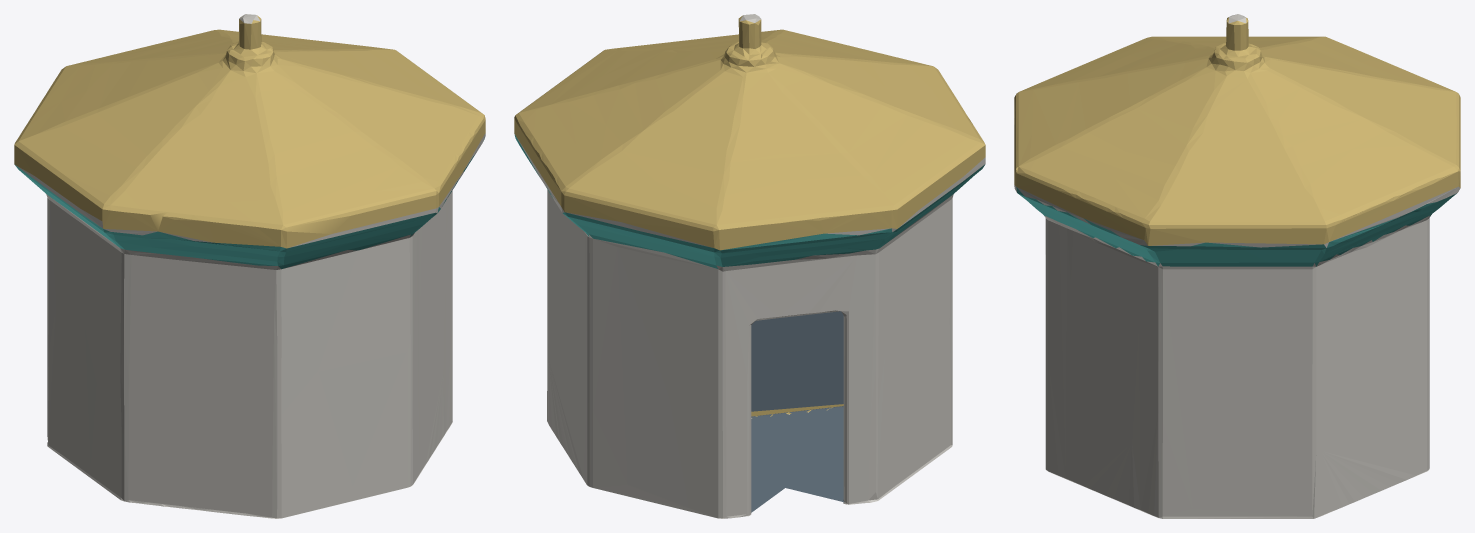
3 renders of one model, left to right at view 1: azimuth 30°, elevation 25°; view 2: azimuth 150°, elevation 25°; view 3: azimuth 270°, elevation 25°, orthographic.
Parts seen in each view (by area): view 1: geometry_0; view 2: geometry_0; view 3: geometry_0.
Part boxes in pixels (box(x1,y1,x2,y2)): geometry_0: box(14, 14, 485, 518); geometry_0: box(514, 14, 985, 518); geometry_0: box(1014, 14, 1460, 518).
Bounding box in the file's own units: 0.9053 × 0.9399 × 0.9052.
